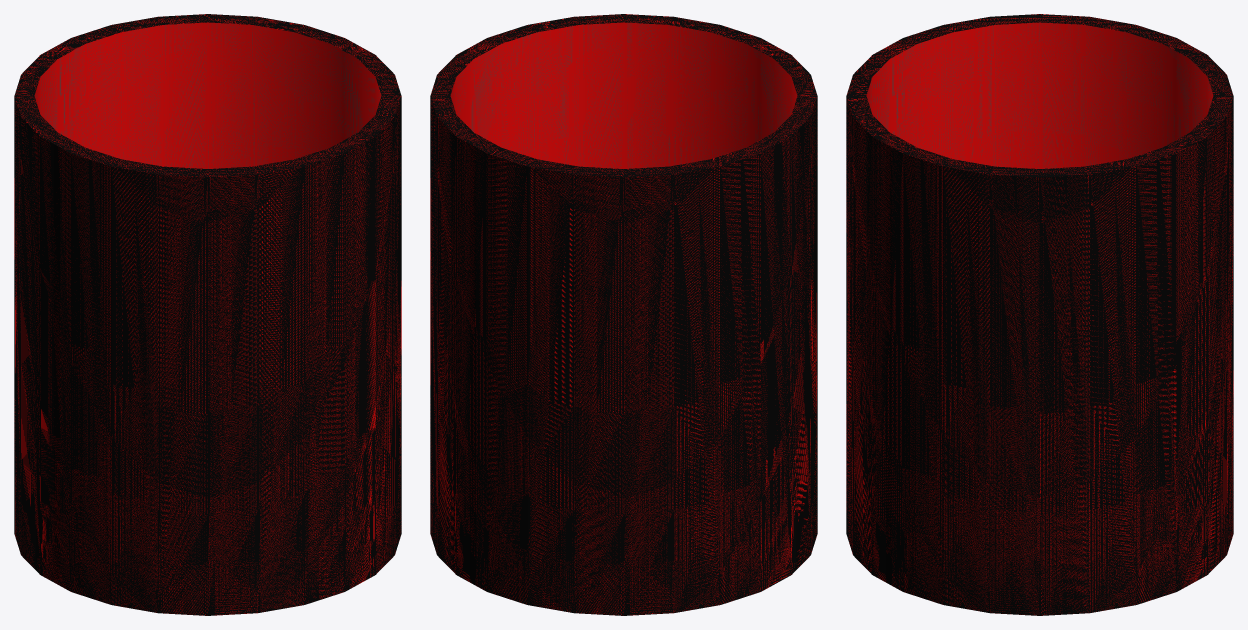
File: cup_03_origin_gt_4.dae
3 views of the same model, side by side, from view 1: azimuth 30°, elevation 25°; view 2: azimuth 150°, elevation 25°; view 3: azimuth 270°, elevation 25° (orthographic).
Parts seen in each view (by area): view 1: Drinking_Cup_Number_2 (×2); view 2: Drinking_Cup_Number_2 (×2); view 3: Drinking_Cup_Number_2 (×2).
Part boxes in pixels (x1,y1,x2,y2): Drinking_Cup_Number_2 (×2): [14, 14, 401, 615]; Drinking_Cup_Number_2 (×2): [430, 14, 817, 615]; Drinking_Cup_Number_2 (×2): [846, 14, 1233, 615].
Size of the model in its own units: 3.5 by 3.5 by 4.38.
